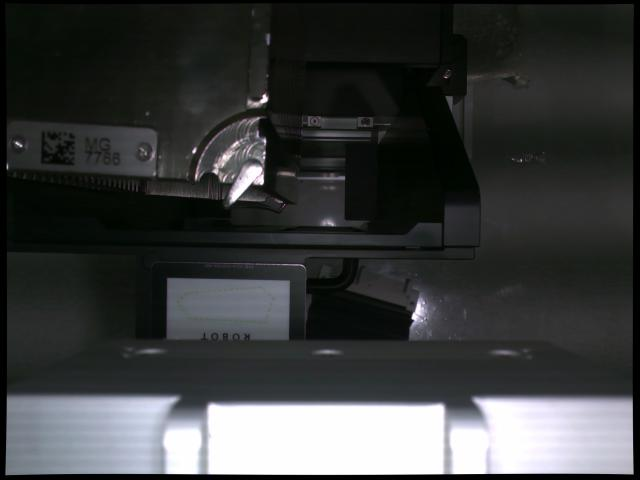jig_latch: (223, 159, 263, 208)
